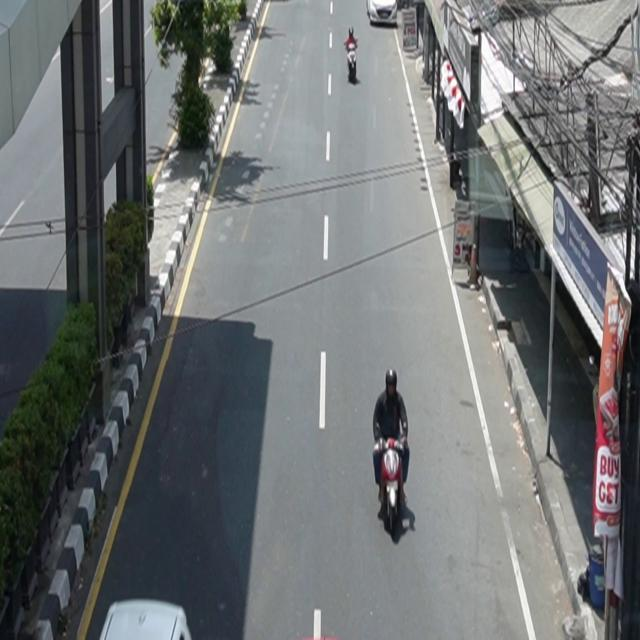car: (100, 599, 193, 640), (367, 1, 399, 26)
